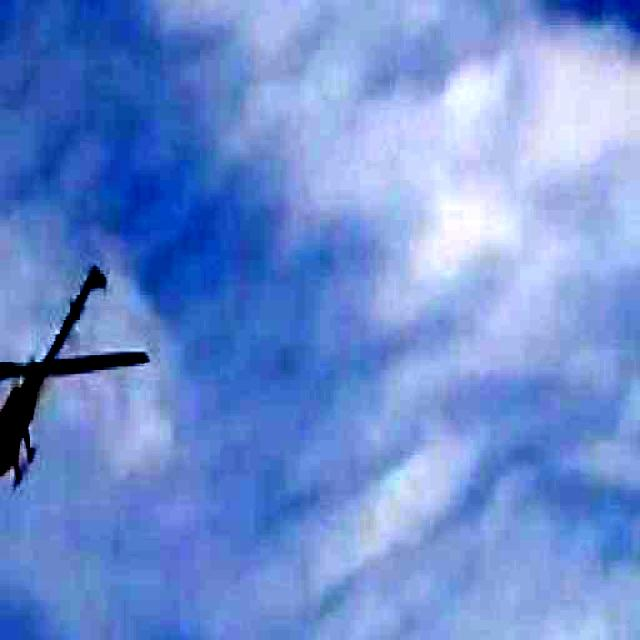drone: (0, 260, 152, 500)
